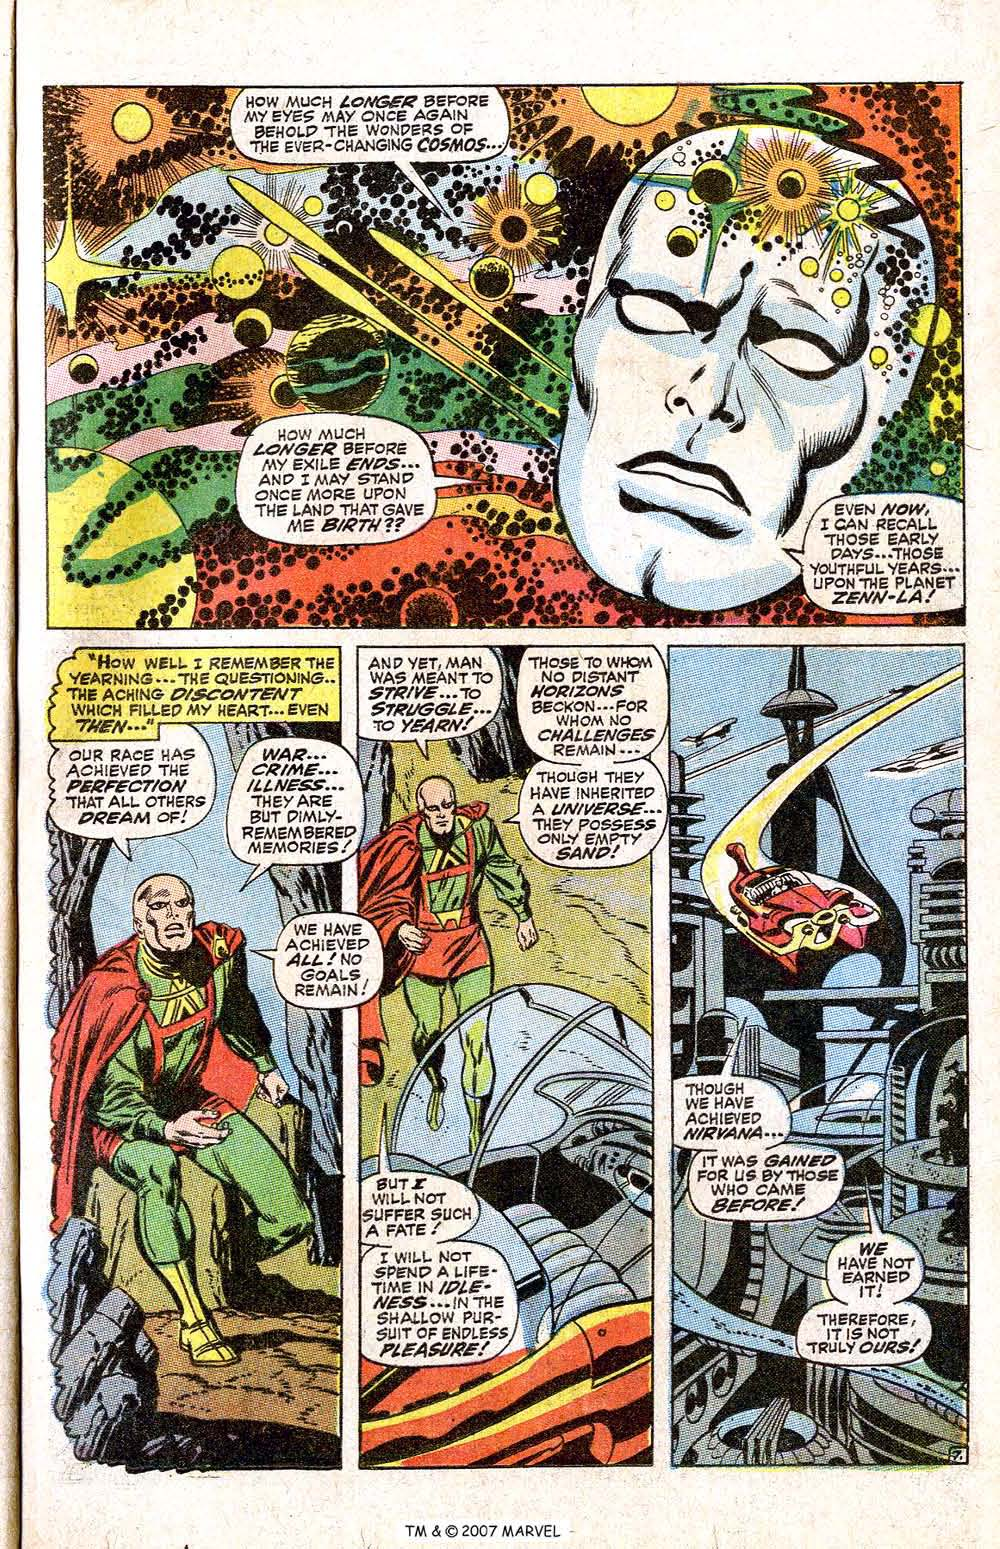Baloon: (358, 1148, 518, 1367), (53, 648, 339, 743), (234, 417, 435, 543), (234, 81, 508, 169), (789, 498, 963, 615), (222, 736, 370, 865), (53, 730, 218, 846), (508, 755, 668, 872), (515, 648, 672, 762), (351, 646, 501, 750), (688, 1138, 853, 1229), (272, 914, 384, 1015), (789, 1293, 932, 1365), (675, 1069, 796, 1150), (822, 1226, 932, 1307)
Vignetta: (40, 86, 965, 629), (668, 641, 970, 1467), (44, 648, 341, 1474), (358, 646, 656, 1469)
